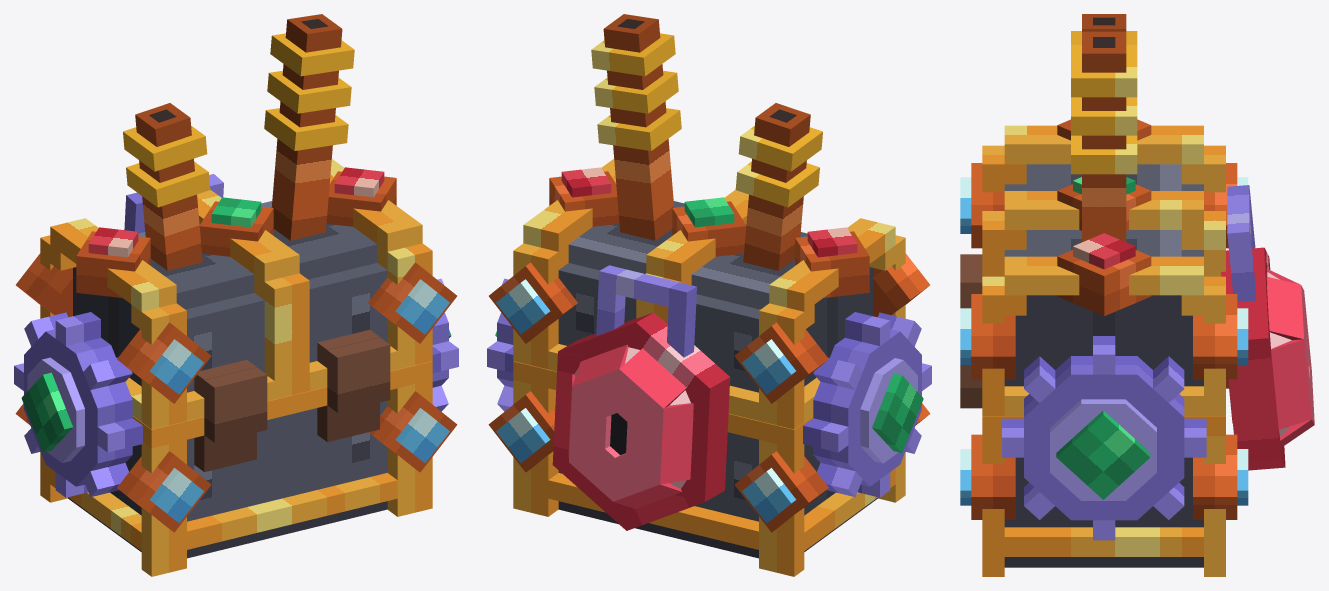
The model's file is steampunk_chest_high.gltf.
The picture shows the model from 3 angles, left to right: view 1: azimuth 30°, elevation 25°; view 2: azimuth 150°, elevation 25°; view 3: azimuth 270°, elevation 25°; orthographic projection. The views are drawn at different scales.
Visible parts, largest first — view 1: Top-Local, Bottom-Local, tube_1-Local, tube_2-Local, tube_1$$(1)-Local, tube_2$$(1)-Local, side_3$$(1)-Local, side_2$$(1)-Local, gem_a$$(6)-Local, gem_a$$(4)-Local, center$$(1)-Local, gem_a$$(10)-Local (+20 smaller); view 2: Top-Local, Bottom-Local, tube_1-Local, tube_2-Local, tube_1$$(1)-Local, lock_2-Local, tube_2$$(1)-Local, border_2-Local, border_1-Local, side_8$$(1)-Local, inner_6$$(2)-Local, side_7$$(1)-Local (+37 smaller); view 3: Top-Local, Bottom-Local, tube_2-Local, tube_1-Local, border_6-Local, center-Local, side_1-Local, gem_a$$(9)-Local, side_2-Local, inner_b5-Local, lock_2-Local, side_8-Local (+30 smaller).
Part boxes in pixels (x1,y1,x2,y2): Top-Local: [40, 159, 432, 429]; Bottom-Local: [40, 337, 432, 576]; tube_1-Local: [271, 14, 342, 240]; tube_2-Local: [264, 19, 354, 150]; tube_1$$(1)-Local: [135, 103, 202, 270]; tube_2$$(1)-Local: [123, 109, 210, 207]; side_3$$(1)-Local: [80, 396, 142, 463]; side_2$$(1)-Local: [65, 345, 132, 421]; gem_a$$(6)-Local: [117, 322, 211, 403]; gem_a$$(4)-Local: [117, 451, 211, 532]; center$$(1)-Local: [21, 372, 72, 452]; gem_a$$(10)-Local: [76, 231, 150, 297]; Top-Local: [513, 159, 905, 429]; Bottom-Local: [513, 361, 905, 576]; tube_1-Local: [603, 14, 674, 240]; tube_2-Local: [591, 19, 681, 150]; tube_1$$(1)-Local: [743, 103, 810, 270]; lock_2-Local: [596, 265, 696, 357]; tube_2$$(1)-Local: [735, 109, 822, 207]; border_2-Local: [674, 377, 730, 502]; border_1-Local: [620, 312, 729, 412]; side_8$$(1)-Local: [813, 345, 869, 420]; inner_6$$(2)-Local: [569, 386, 611, 469]; side_7$$(1)-Local: [803, 400, 864, 463]; Top-Local: [982, 125, 1225, 415]; Bottom-Local: [960, 254, 1225, 576]; tube_2-Local: [1071, 37, 1137, 174]; tube_1-Local: [1082, 31, 1126, 242]; border_6-Local: [1228, 323, 1280, 460]; center-Local: [1056, 410, 1150, 499]; side_1-Local: [1071, 336, 1137, 409]; gem_a$$(9)-Local: [1057, 250, 1151, 316]; side_2-Local: [1111, 356, 1184, 441]; inner_b5-Local: [1228, 339, 1311, 429]; lock_2-Local: [1227, 185, 1255, 301]; side_8-Local: [1024, 356, 1095, 438].
Size of the model in its own units: 22 by 25.05 by 16.
88 materials, 88 textured.
